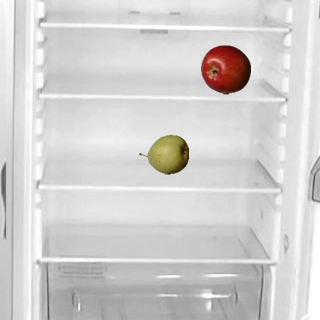Apple Braeburn: (200, 44, 250, 94)
Pear: (138, 129, 188, 179)
